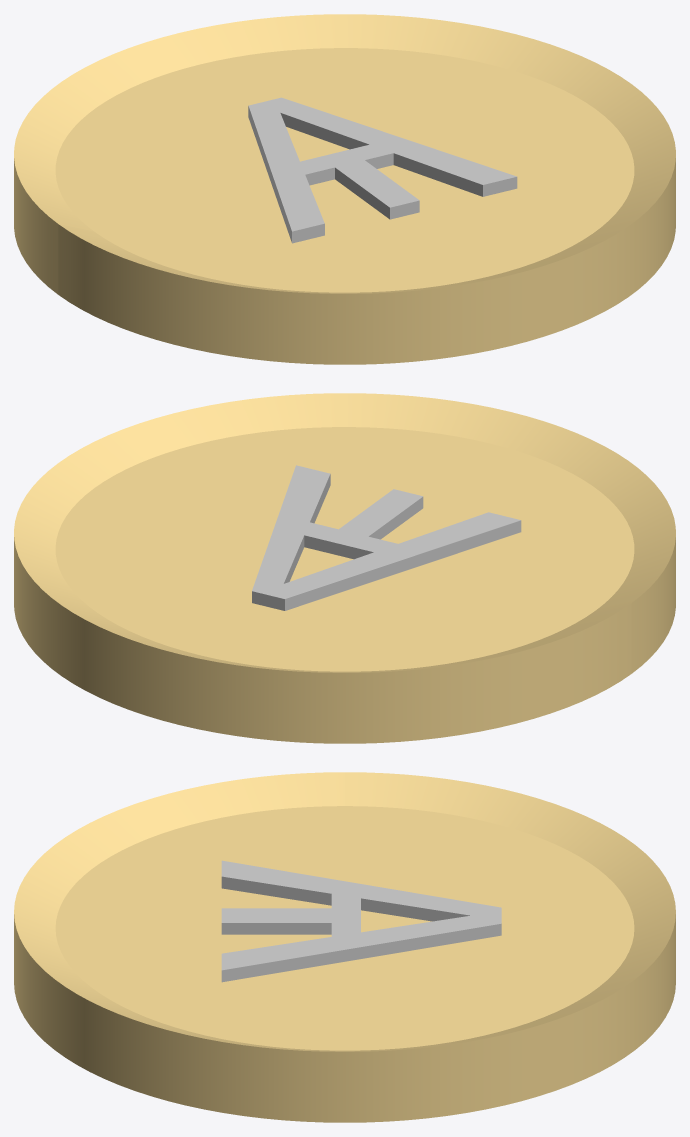
Rendered from AgUSD.glb.
3 renders of one model, top to bottom at view 1: azimuth 30°, elevation 25°; view 2: azimuth 150°, elevation 25°; view 3: azimuth 270°, elevation 25°, orthographic.
Visible parts, largest first — view 1: Cylinder, Torus, Text; view 2: Cylinder, Torus, Text; view 3: Cylinder, Torus, Text.
Part boxes in pixels (x1=…): Cylinder: x1=55, y1=48, x2=634, y2=292; Torus: x1=14, y1=14, x2=675, y2=364; Text: x1=248, y1=97, x2=517, y2=243; Cylinder: x1=55, y1=427, x2=634, y2=671; Torus: x1=14, y1=393, x2=675, y2=743; Text: x1=252, y1=465, x2=521, y2=610; Cylinder: x1=55, y1=806, x2=634, y2=1050; Torus: x1=14, y1=772, x2=675, y2=1122; Text: x1=221, y1=860, x2=501, y2=982.
Bounding box in the file's own units: 0.22 × 0.026 × 0.22.
